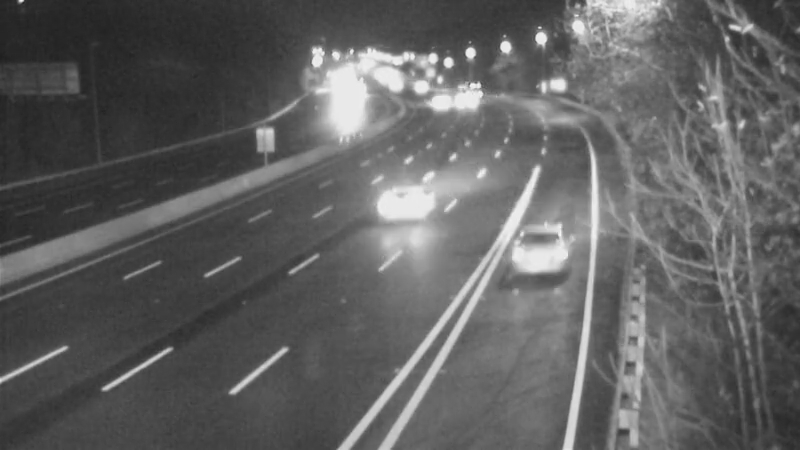vehicle: (364, 163, 444, 243), (490, 199, 570, 279), (395, 60, 445, 110), (448, 63, 498, 113), (410, 75, 460, 125), (439, 75, 489, 125)
